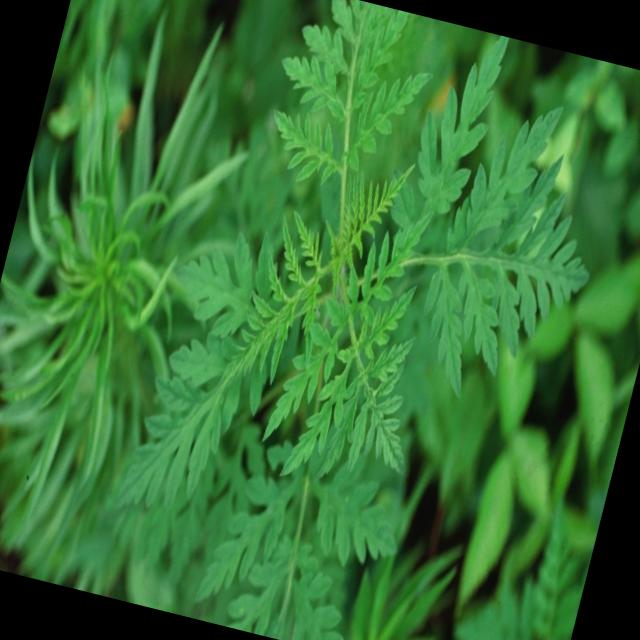ambrosia: (372, 74, 620, 382), (110, 218, 340, 530), (282, 0, 418, 196), (298, 306, 439, 495)
